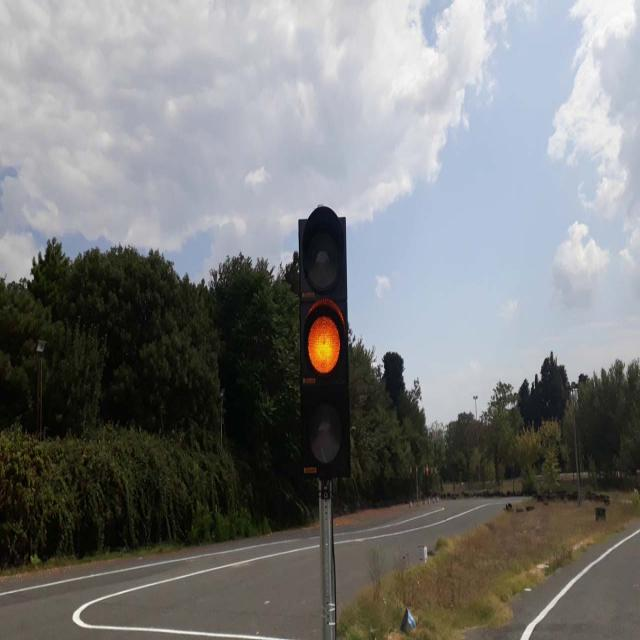sari: (297, 208, 349, 476)
